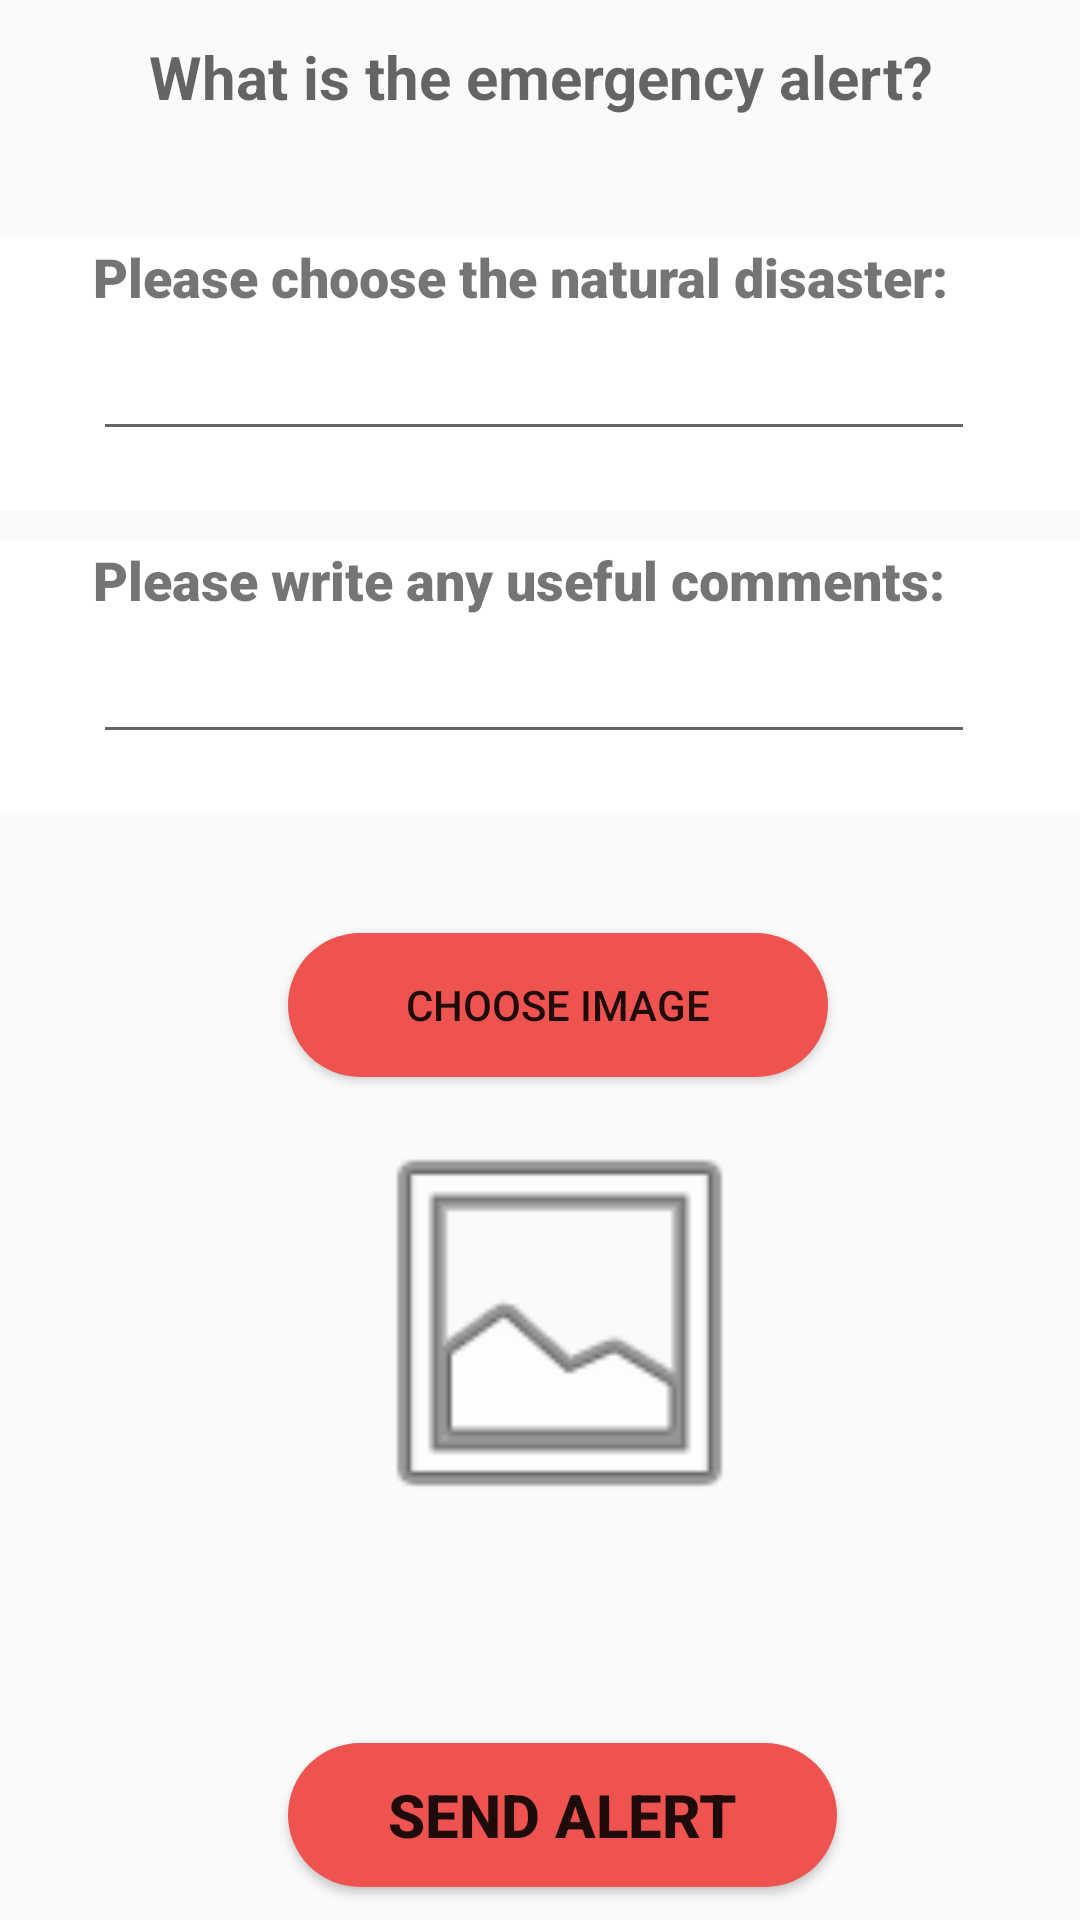

Point at icon controls on the screen. Image size 1080w x 1920h, points as (x,y).
gallery: (559,1323)
